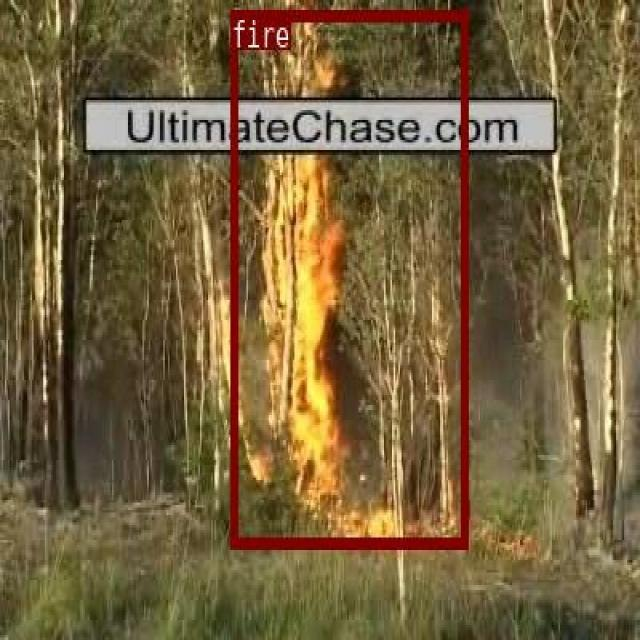fire: (229, 9, 467, 546)
